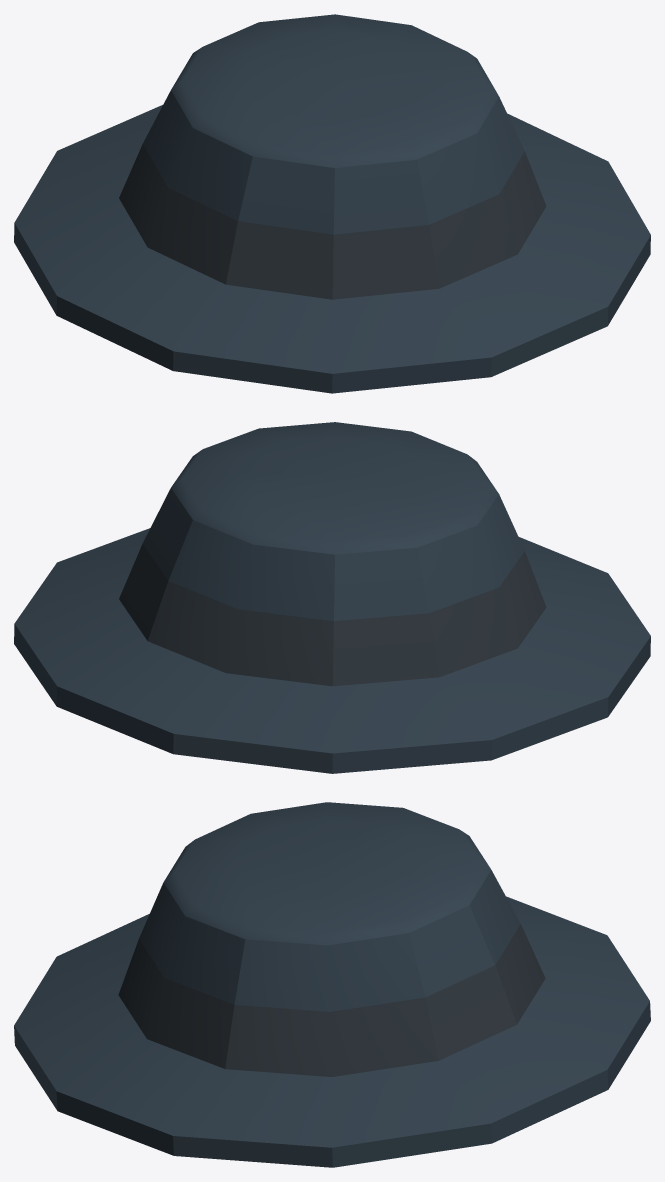
File: Accesorios_Sombrero2.fbx
3 views of the same model, one above another, from view 1: azimuth 30°, elevation 25°; view 2: azimuth 150°, elevation 25°; view 3: azimuth 270°, elevation 25° (orthographic).
Visible parts, largest first — view 1: Sombrero_2; view 2: Sombrero_2; view 3: Sombrero_2.
Part boxes in pixels (x1,y1,x2,y2): Sombrero_2: [14, 14, 650, 393]; Sombrero_2: [14, 422, 650, 773]; Sombrero_2: [14, 802, 650, 1167].
Bounding box in the file's own units: 5.64 × 1.89 × 5.64.
